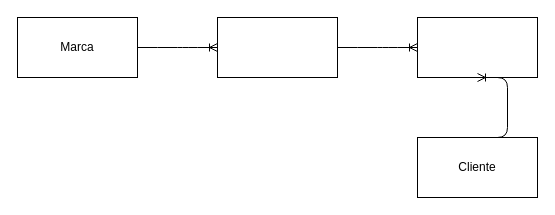
This 555x215 diagram has some shape labels left out. The shapes that lost their labels are listed below. From the top down, each one's box as (x1, y1, x2, y2) in pixels, then its label:
(216, 16, 338, 78): ModeloCarro
(416, 16, 538, 78): Aluguel
